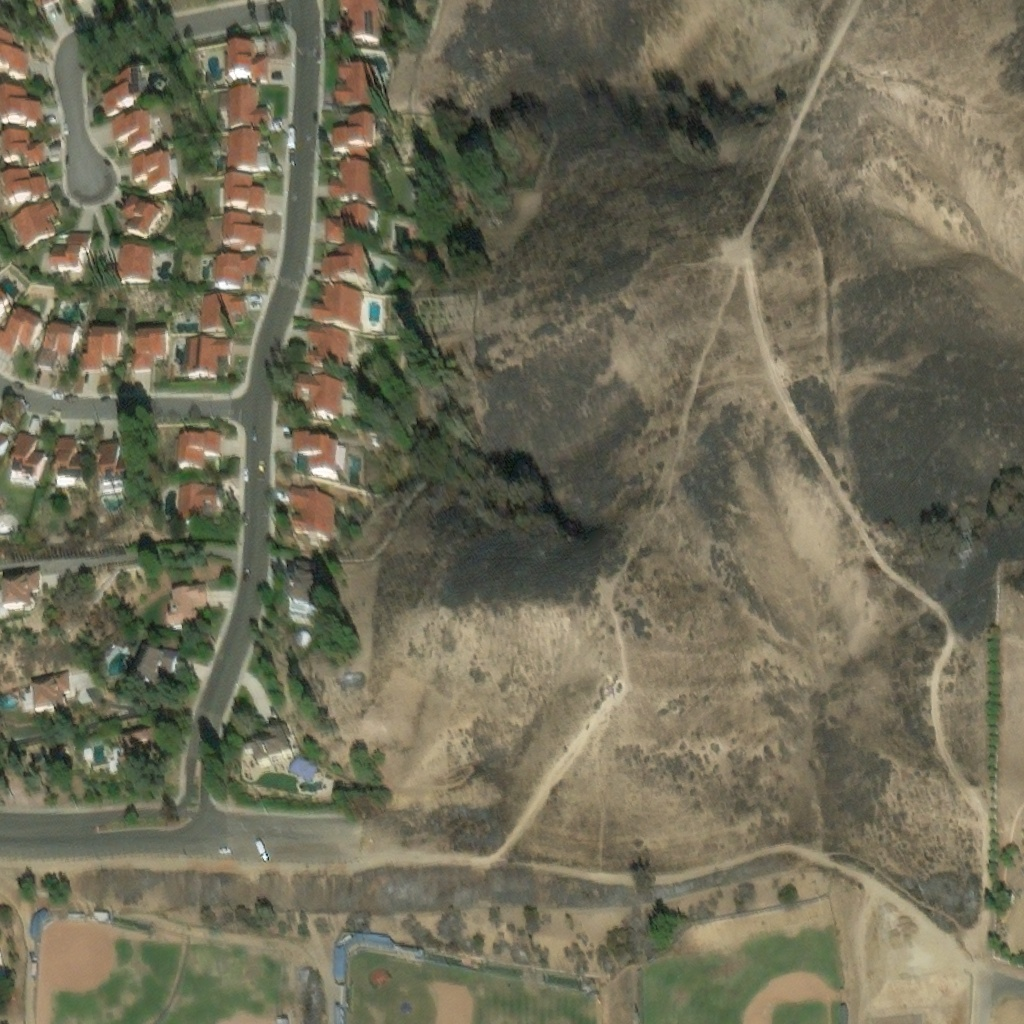0 no-damage: (334, 927, 422, 981), (94, 57, 167, 106), (127, 647, 188, 698), (116, 185, 166, 238), (243, 718, 292, 771), (33, 317, 82, 370), (8, 191, 56, 245), (4, 427, 47, 486), (286, 555, 320, 625), (186, 343, 237, 388), (0, 302, 43, 354), (297, 377, 344, 424), (293, 433, 340, 480), (116, 731, 164, 777), (178, 436, 230, 478), (290, 489, 334, 537), (106, 245, 155, 288), (46, 227, 91, 273), (30, 666, 73, 714), (329, 163, 377, 205), (81, 329, 123, 377), (314, 287, 363, 328), (129, 146, 178, 187), (226, 131, 273, 173), (176, 489, 224, 530), (54, 435, 89, 491), (225, 40, 270, 83), (309, 329, 351, 375), (202, 299, 249, 340), (337, 0, 384, 41), (106, 108, 154, 148), (95, 442, 135, 490), (332, 116, 376, 159), (333, 62, 375, 107), (326, 207, 377, 244), (0, 155, 48, 194), (228, 85, 271, 128), (167, 582, 210, 625), (2, 564, 41, 610), (131, 333, 170, 378), (222, 216, 266, 255), (213, 258, 260, 294), (225, 175, 267, 215), (323, 248, 368, 285), (0, 115, 41, 153), (0, 69, 37, 110), (29, 904, 57, 941), (286, 752, 318, 781), (0, 20, 22, 62), (335, 986, 351, 1023), (0, 413, 11, 449), (295, 630, 312, 648), (65, 910, 87, 921), (0, 285, 10, 306), (92, 910, 110, 921), (30, 963, 41, 979), (0, 951, 5, 971)
